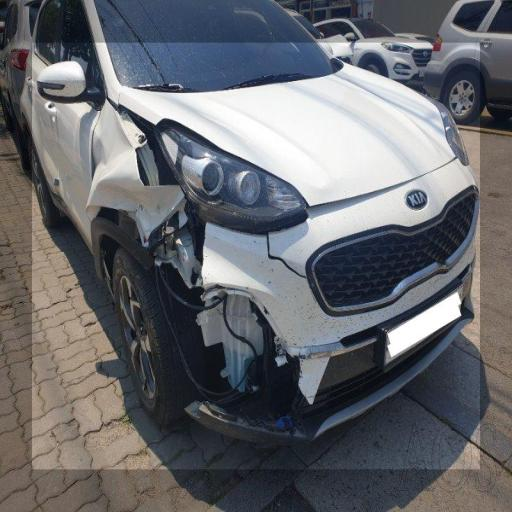broken: (78, 103, 321, 450)
